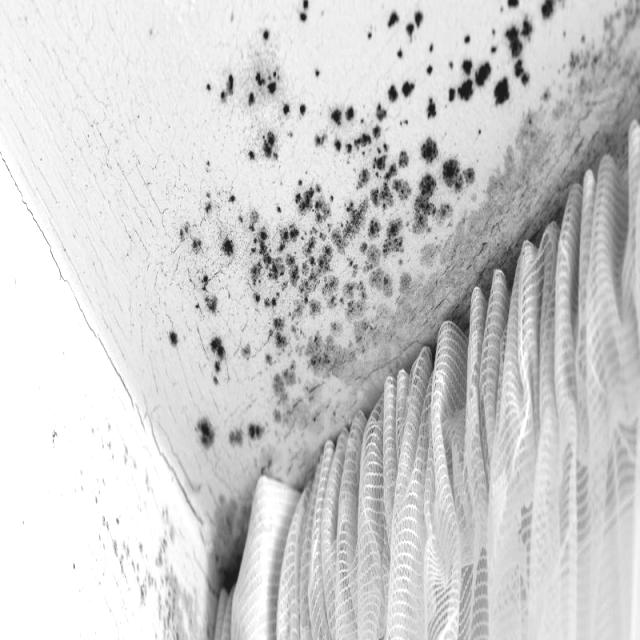stain marks: (112, 2, 588, 500)
